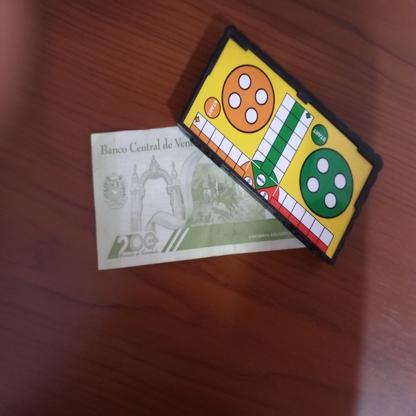fifty-back-vef: (90, 124, 308, 270)
